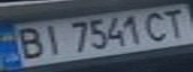1: (121, 12, 145, 45)
4: (103, 15, 127, 47)
5: (87, 16, 109, 51)
7: (66, 18, 90, 53)
B: (9, 25, 48, 61)
C: (139, 8, 175, 43)
I: (36, 21, 66, 56)
T: (157, 6, 193, 38)
